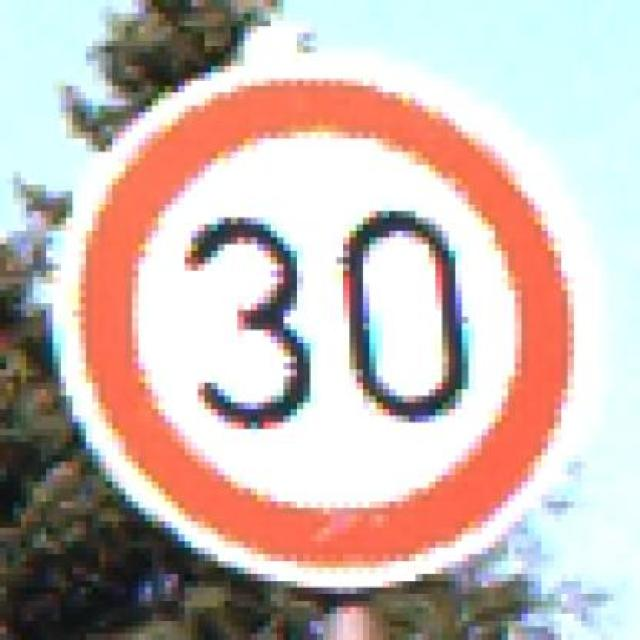Speed Limit 30 KMPh: (40, 39, 614, 601)
